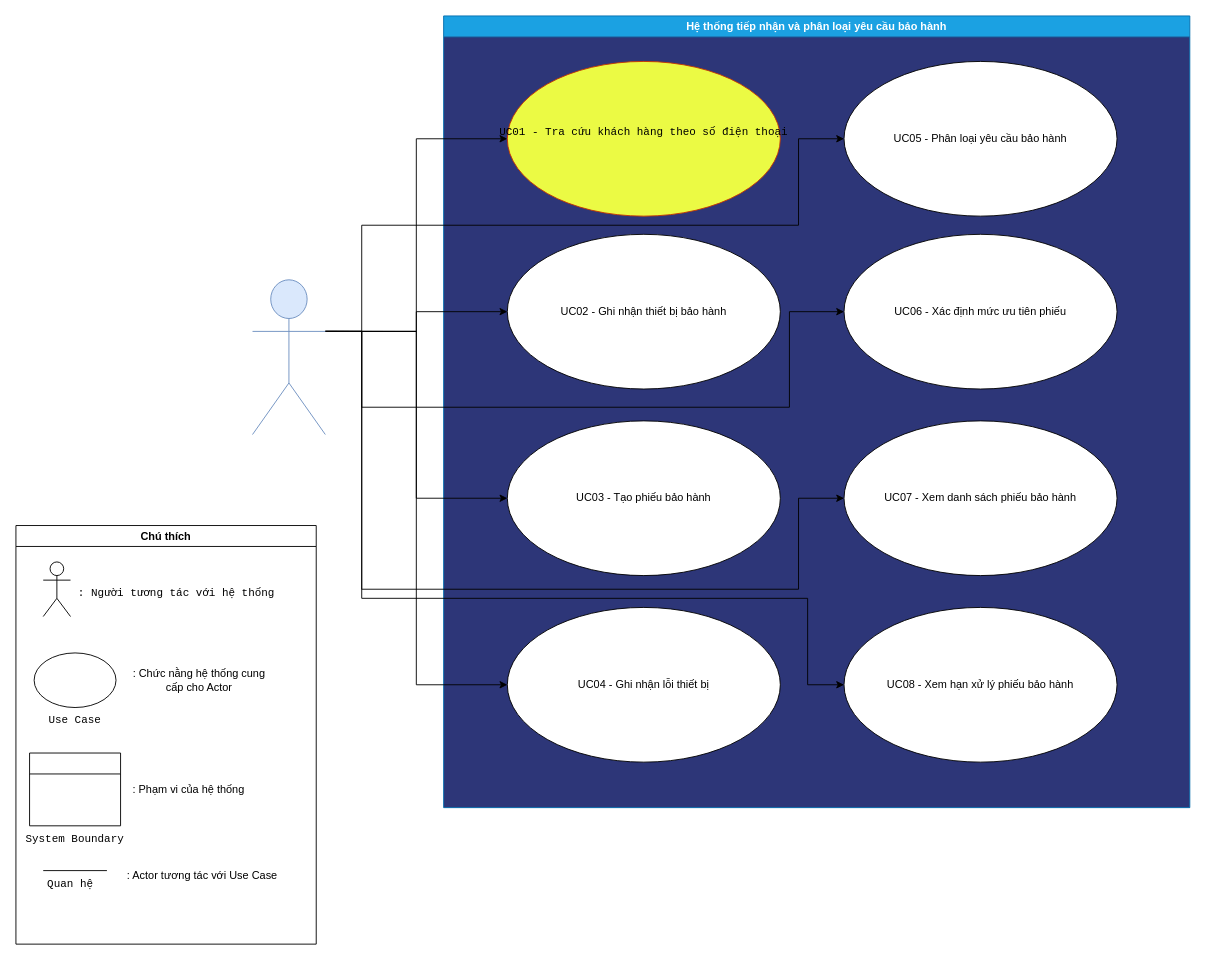
Some shapes in this 1206 by 960 pixel diagram are drawn without their labels. The shapes that lost their labels are listed below. From the top down, each one's centre as x and y in pixels, then its label:
At (288,357): "Nhân viên tiếp nhận".
At (56,589): "Actor".
At (75,789): "Vertical Container".
